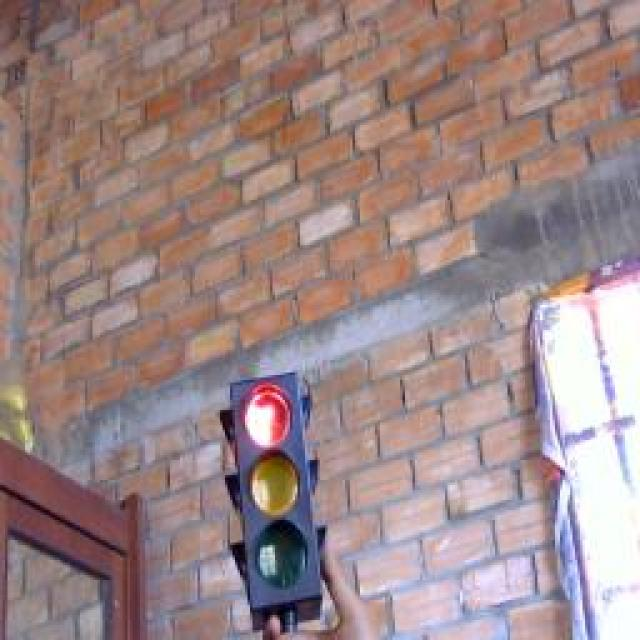-: (238, 375, 306, 452)
